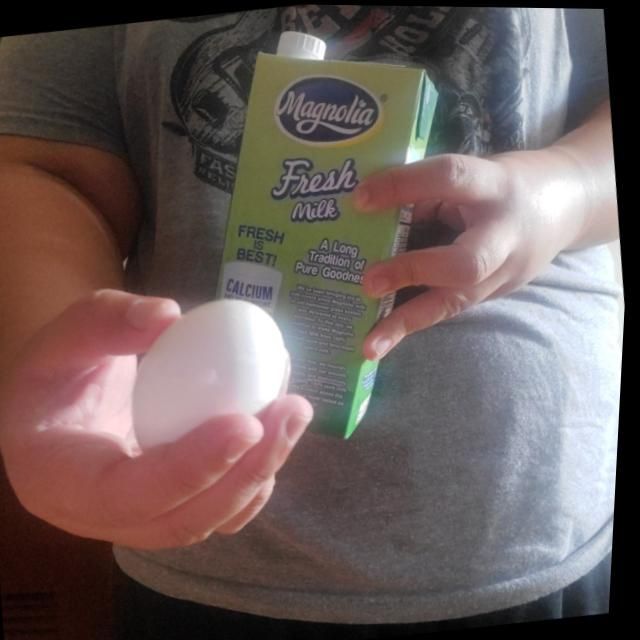egg: (123, 295, 301, 468)
milk: (182, 10, 474, 366)
